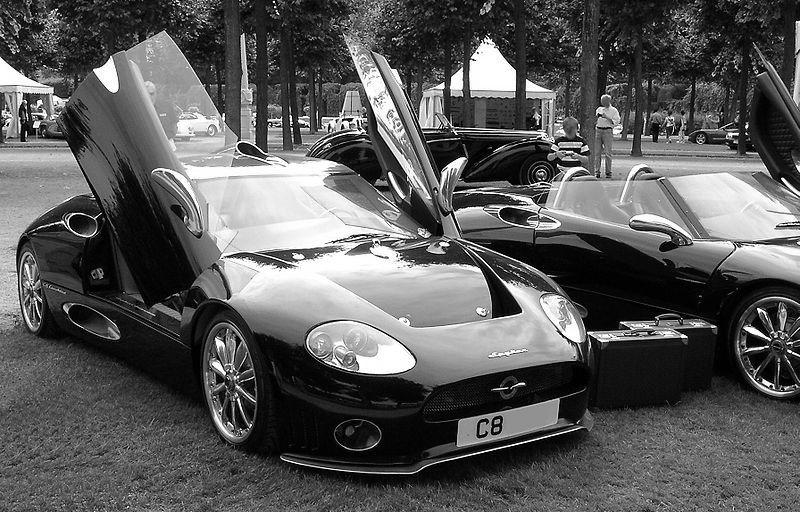car: (14, 28, 605, 489)
